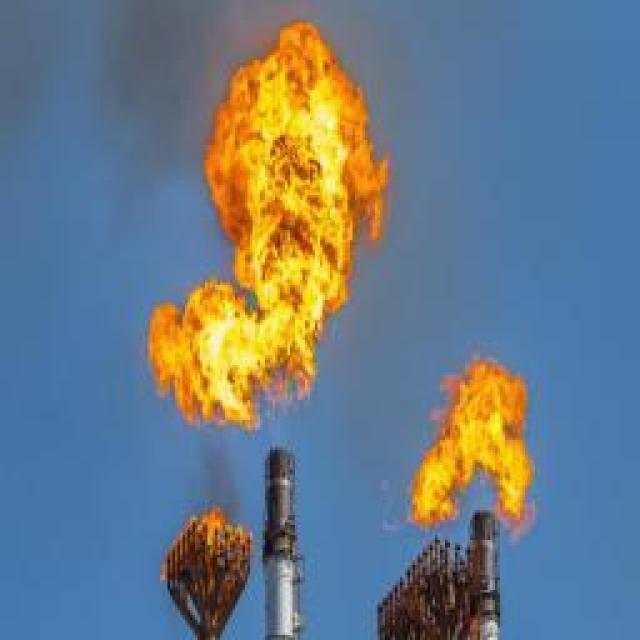fire: (148, 19, 387, 435), (406, 357, 536, 543), (193, 504, 225, 543)
smoke: (91, 1, 424, 202), (0, 0, 66, 130), (196, 430, 241, 524)
